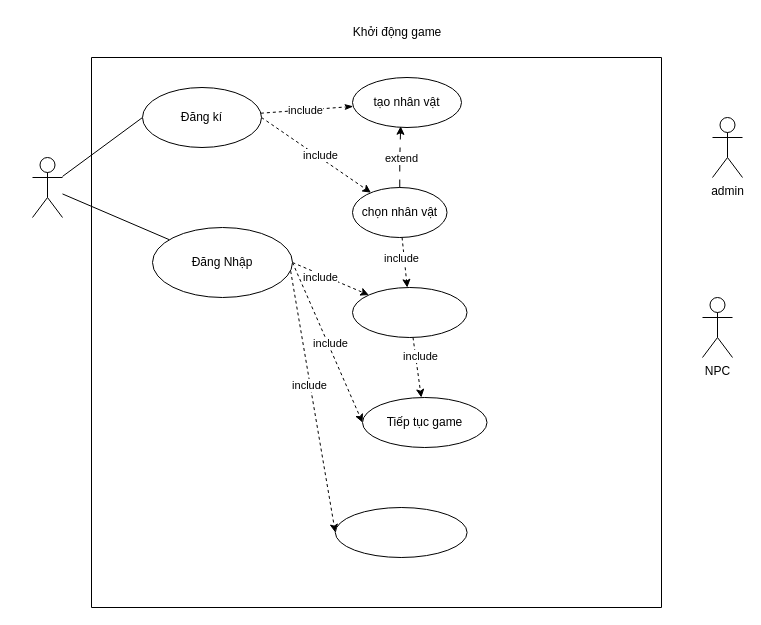
The diagram is 761 pixels wide and 625 high, and some of its shapes have lost their labels. Each missing label, with the centre of its shape:
lưu game: point 409,312
Người chơi: point 47,187
thoát game: point 400,532
